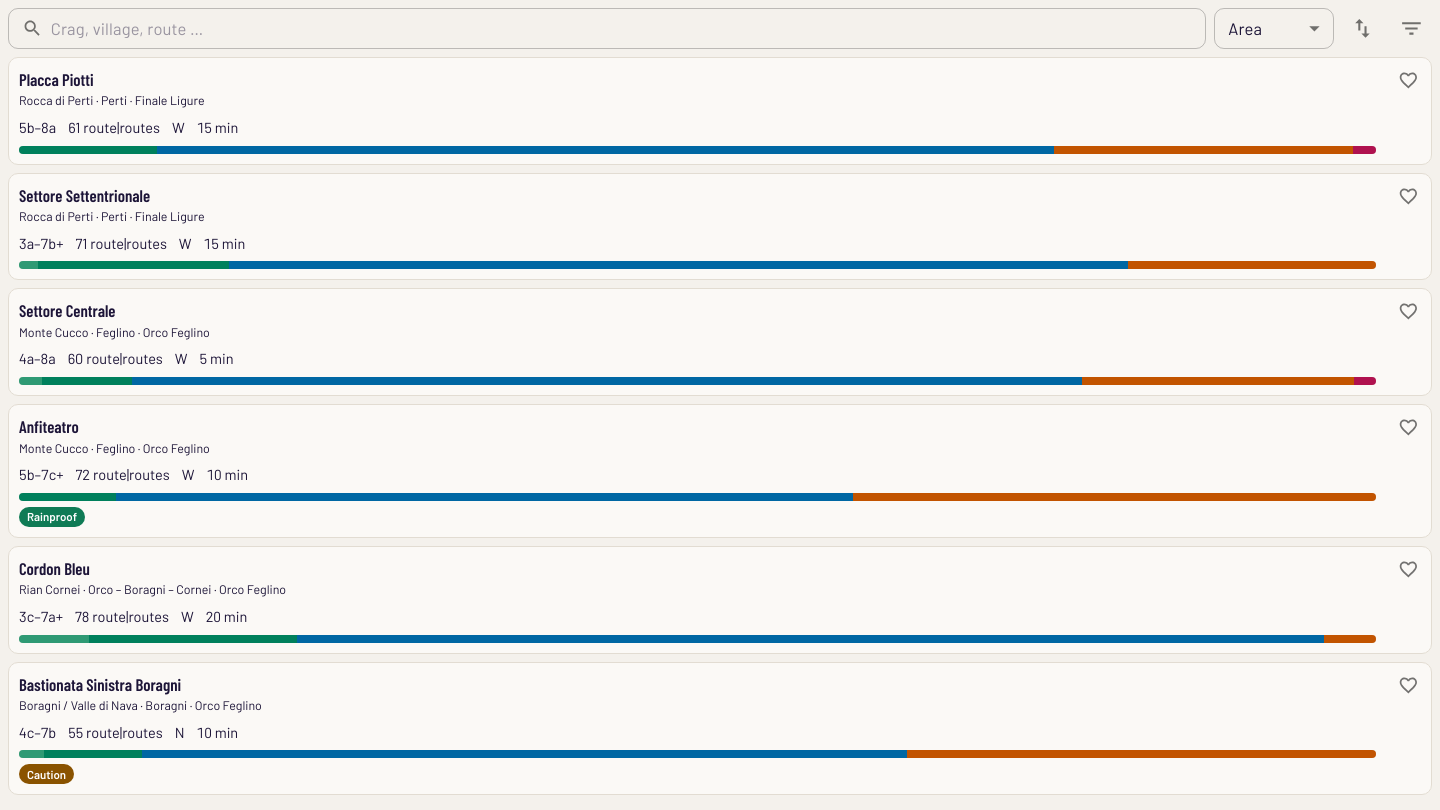
the crag list › says so when nothing matches
Type "zzzqqq" into the field with placeholder "Crag, village, route …". click: (628, 28)
box: [51,8,1206,49]
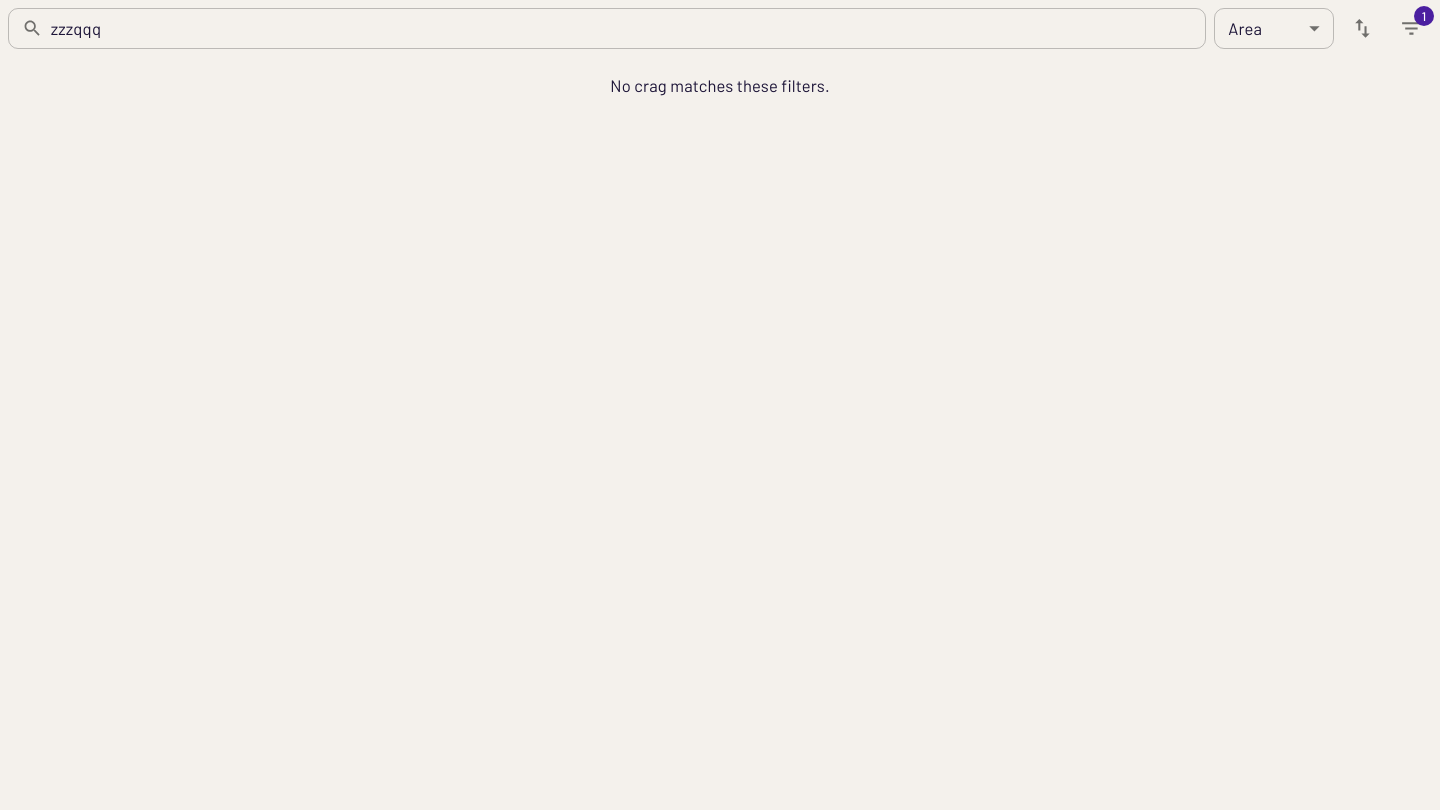
Now the button "Cordon Bleu" is gone
Now the button "Settore Settentrionale" is gone
Now the button "Placca Piotti" is gone
